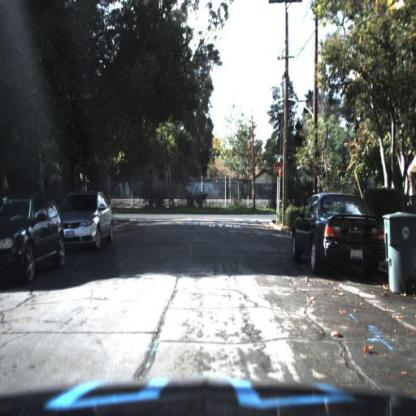car: (294, 191, 397, 286), (2, 190, 66, 291), (64, 189, 121, 261), (53, 191, 115, 256)
